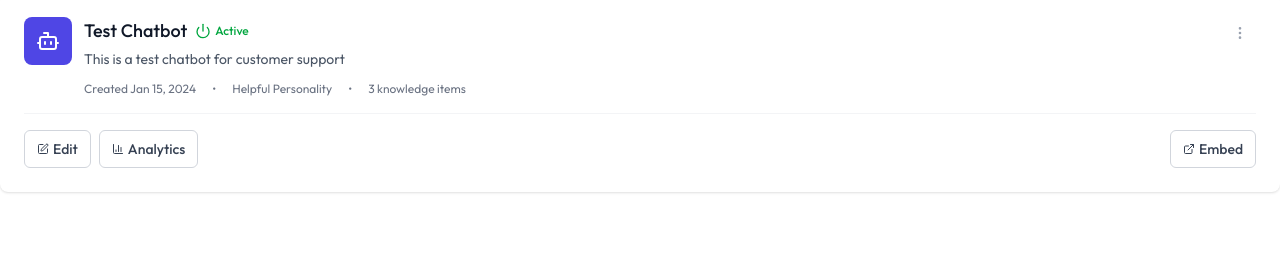
Test: ChatbotCard › Dropdown Menu › opens dropdown menu when more options button is clicked
Click the button named "more options" at {"x": 1240, "y": 33}, box x1=1224 y1=17 x2=1256 y2=49
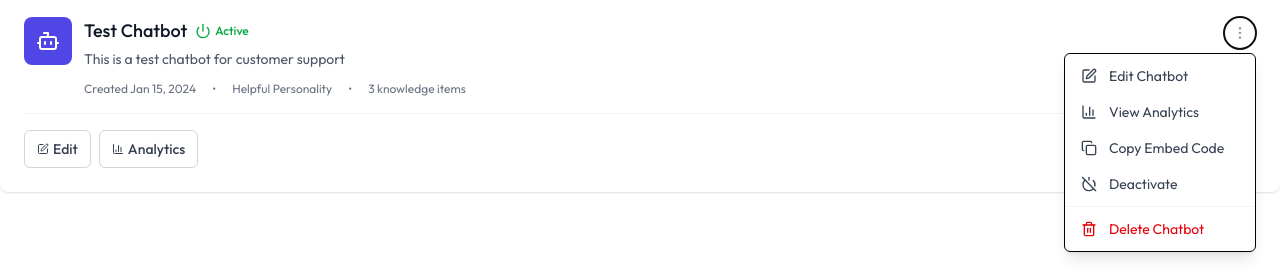
Result: the button "Edit Chatbot" is shown at x1=1065 y1=58 x2=1255 y2=94
Result: the button "View Analytics" is shown at x1=1065 y1=94 x2=1255 y2=130
Result: the button "Copy Embed Code" is shown at x1=1065 y1=130 x2=1255 y2=166
